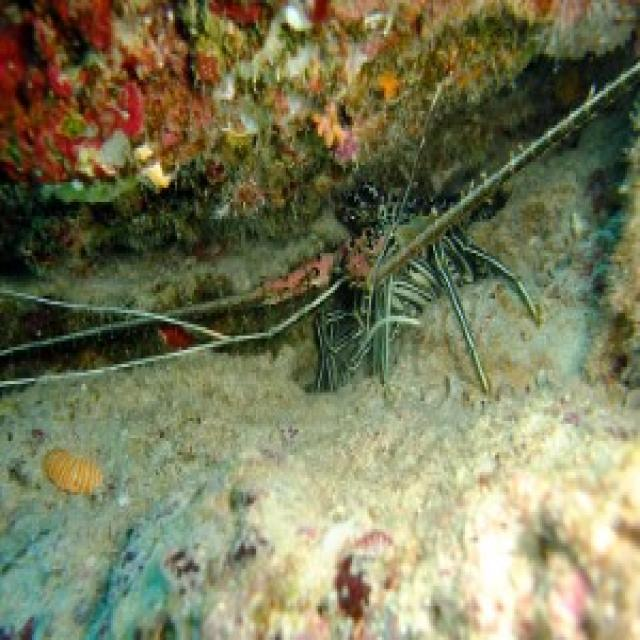lobsters: (282, 186, 541, 416)
